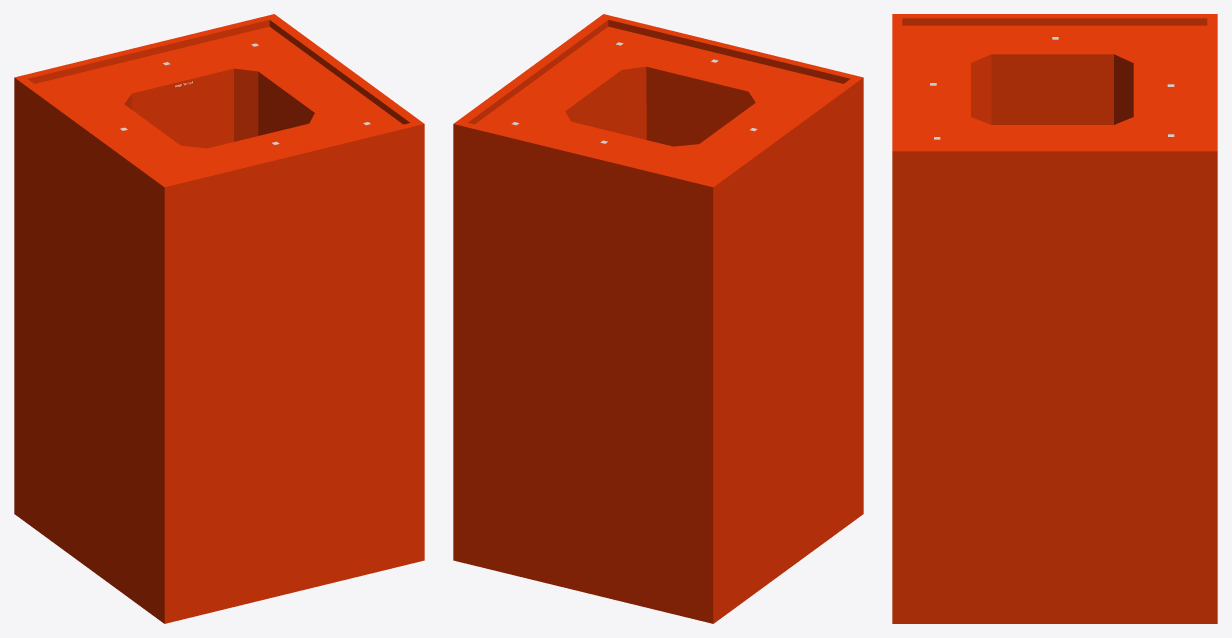
Rendered from level-02.glb.
The picture shows the model from 3 angles, left to right: view 1: azimuth 30°, elevation 25°; view 2: azimuth 150°, elevation 25°; view 3: azimuth 270°, elevation 25°; orthographic projection. The views are drawn at different scales.
Visible parts, largest first — view 1: Plane; view 2: Plane; view 3: Plane.
Boxes of the visible parts, box(x1,y1,x2,y2) form: Plane: box(14, 14, 424, 623); Plane: box(453, 14, 863, 623); Plane: box(892, 14, 1217, 623).
Size of what is drawn, in the model's own units: 100 by 160 by 100.
